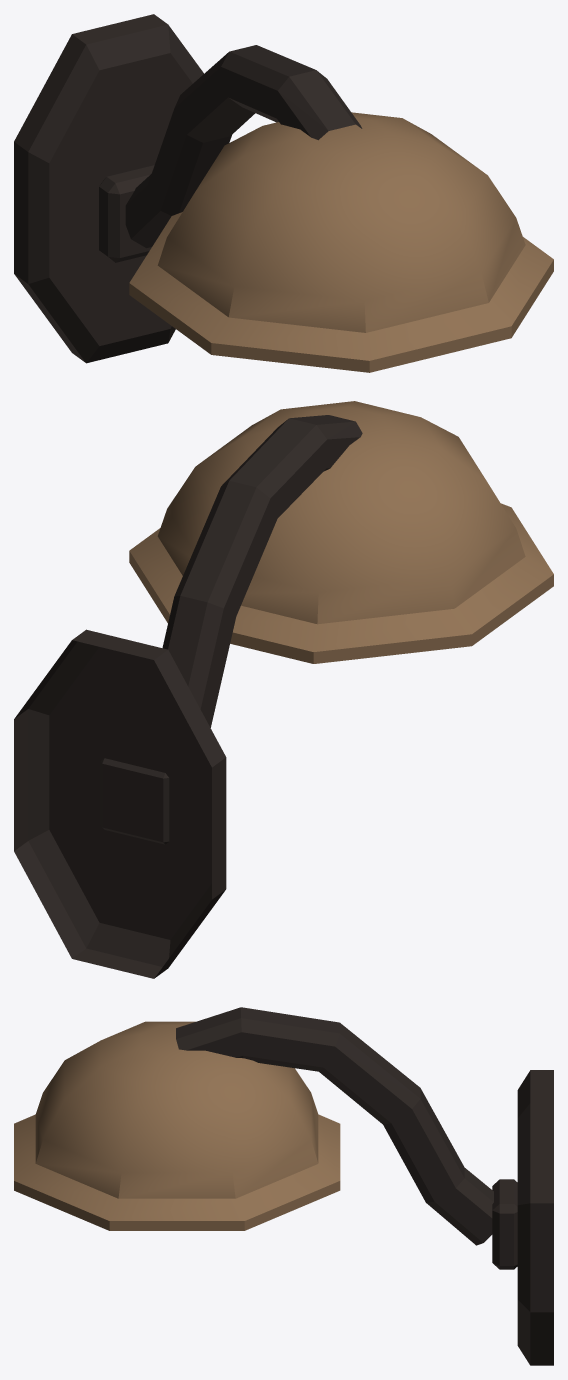
The model's file is WallLightHood.fbx.
3 views of the same model, one above another, from view 1: azimuth 30°, elevation 25°; view 2: azimuth 150°, elevation 25°; view 3: azimuth 270°, elevation 25° (orthographic). The views are drawn at different scales.
Parts seen in each view (by area): view 1: WallLightHood_Shade, WallLightHood_Plate, WallLightHood_Arm; view 2: WallLightHood_Shade, WallLightHood_Plate, WallLightHood_Arm; view 3: WallLightHood_Shade, WallLightHood_Arm, WallLightHood_Plate.
Boxes of the visible parts, x1,y1,x2,y2 form: WallLightHood_Shade: (129,112,553,372); WallLightHood_Plate: (14,14,203,363); WallLightHood_Arm: (99,45,362,262); WallLightHood_Shade: (129,401,553,663); WallLightHood_Plate: (14,629,226,978); WallLightHood_Arm: (100,415,362,844); WallLightHood_Shade: (14,1021,340,1230); WallLightHood_Arm: (176,1007,517,1269); WallLightHood_Plate: (517,1070,553,1365).
Bounding box in the file's own units: 0.9 × 1.02 × 1.49.
